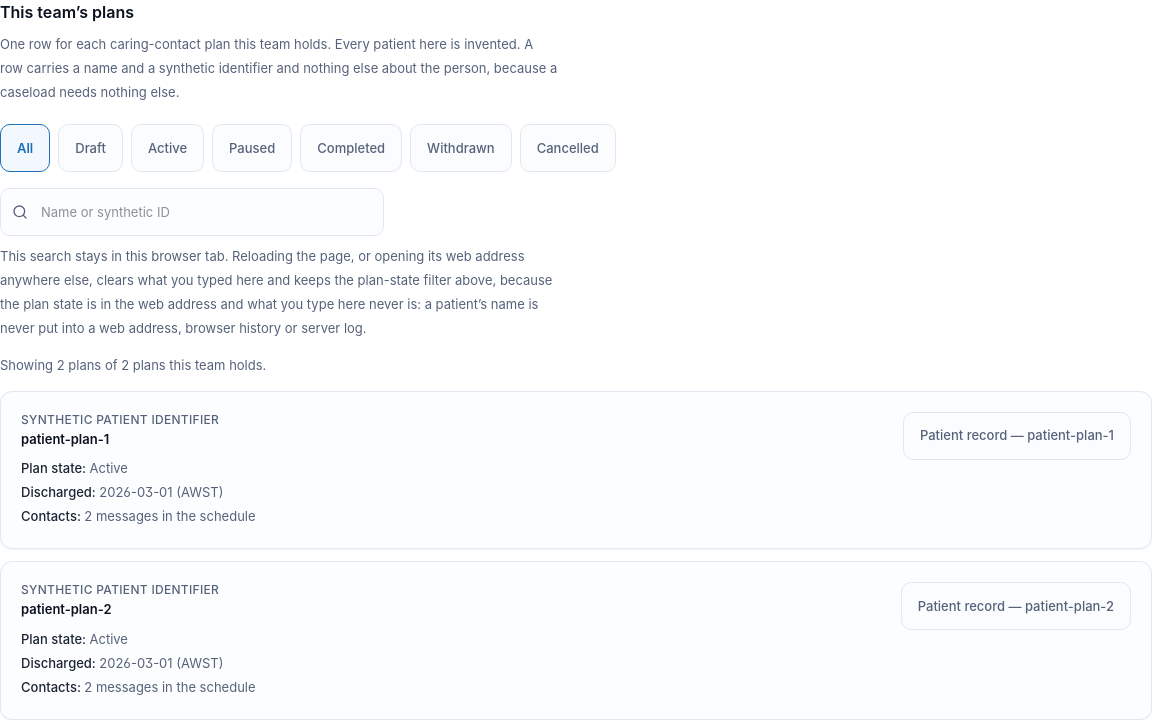
it: Patients directory - the plan state is a URL, and only the plan state › matches the identifier search case-insensitively against the patient and plan identifiers
This screenshot has width=1152, height=720.
Expected: the number of list items is 2, [0,391,1151,549]; [0,561,1151,719]
Type "PLAN-2" into the search field at (192, 212), box [0,188,384,236]
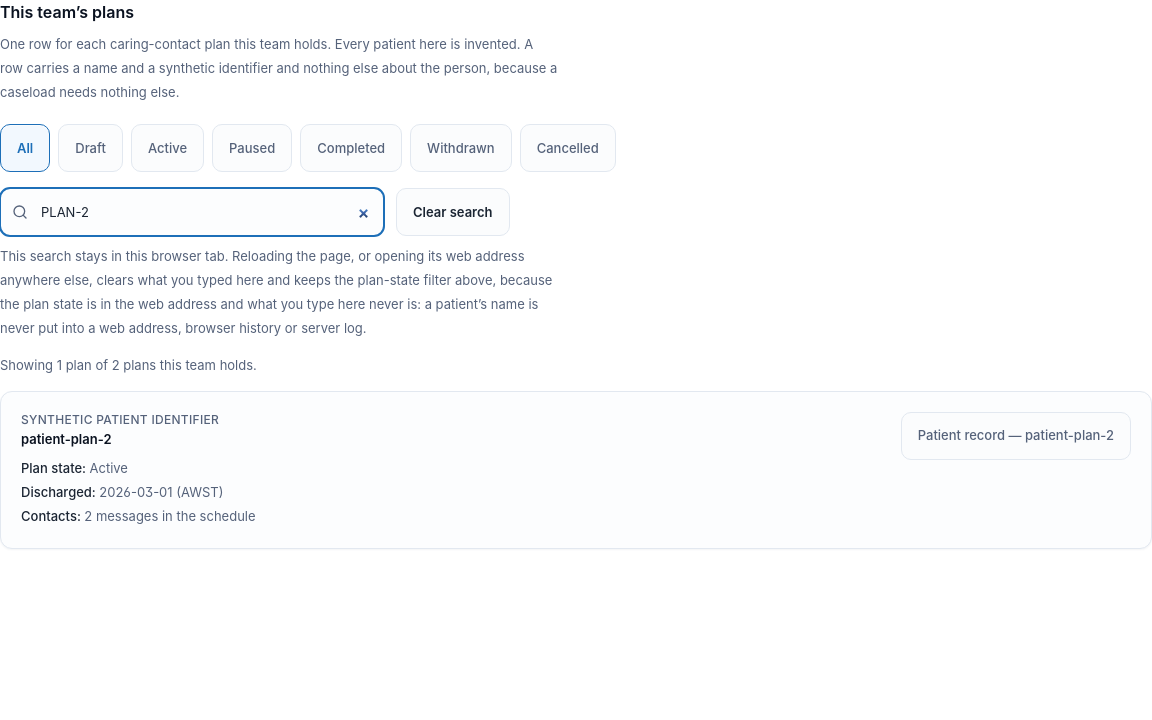
Expected: the heading "patient-plan-2" is shown, [21,431,112,447]
Expected: the number of list items is 1, [0,391,1151,549]
